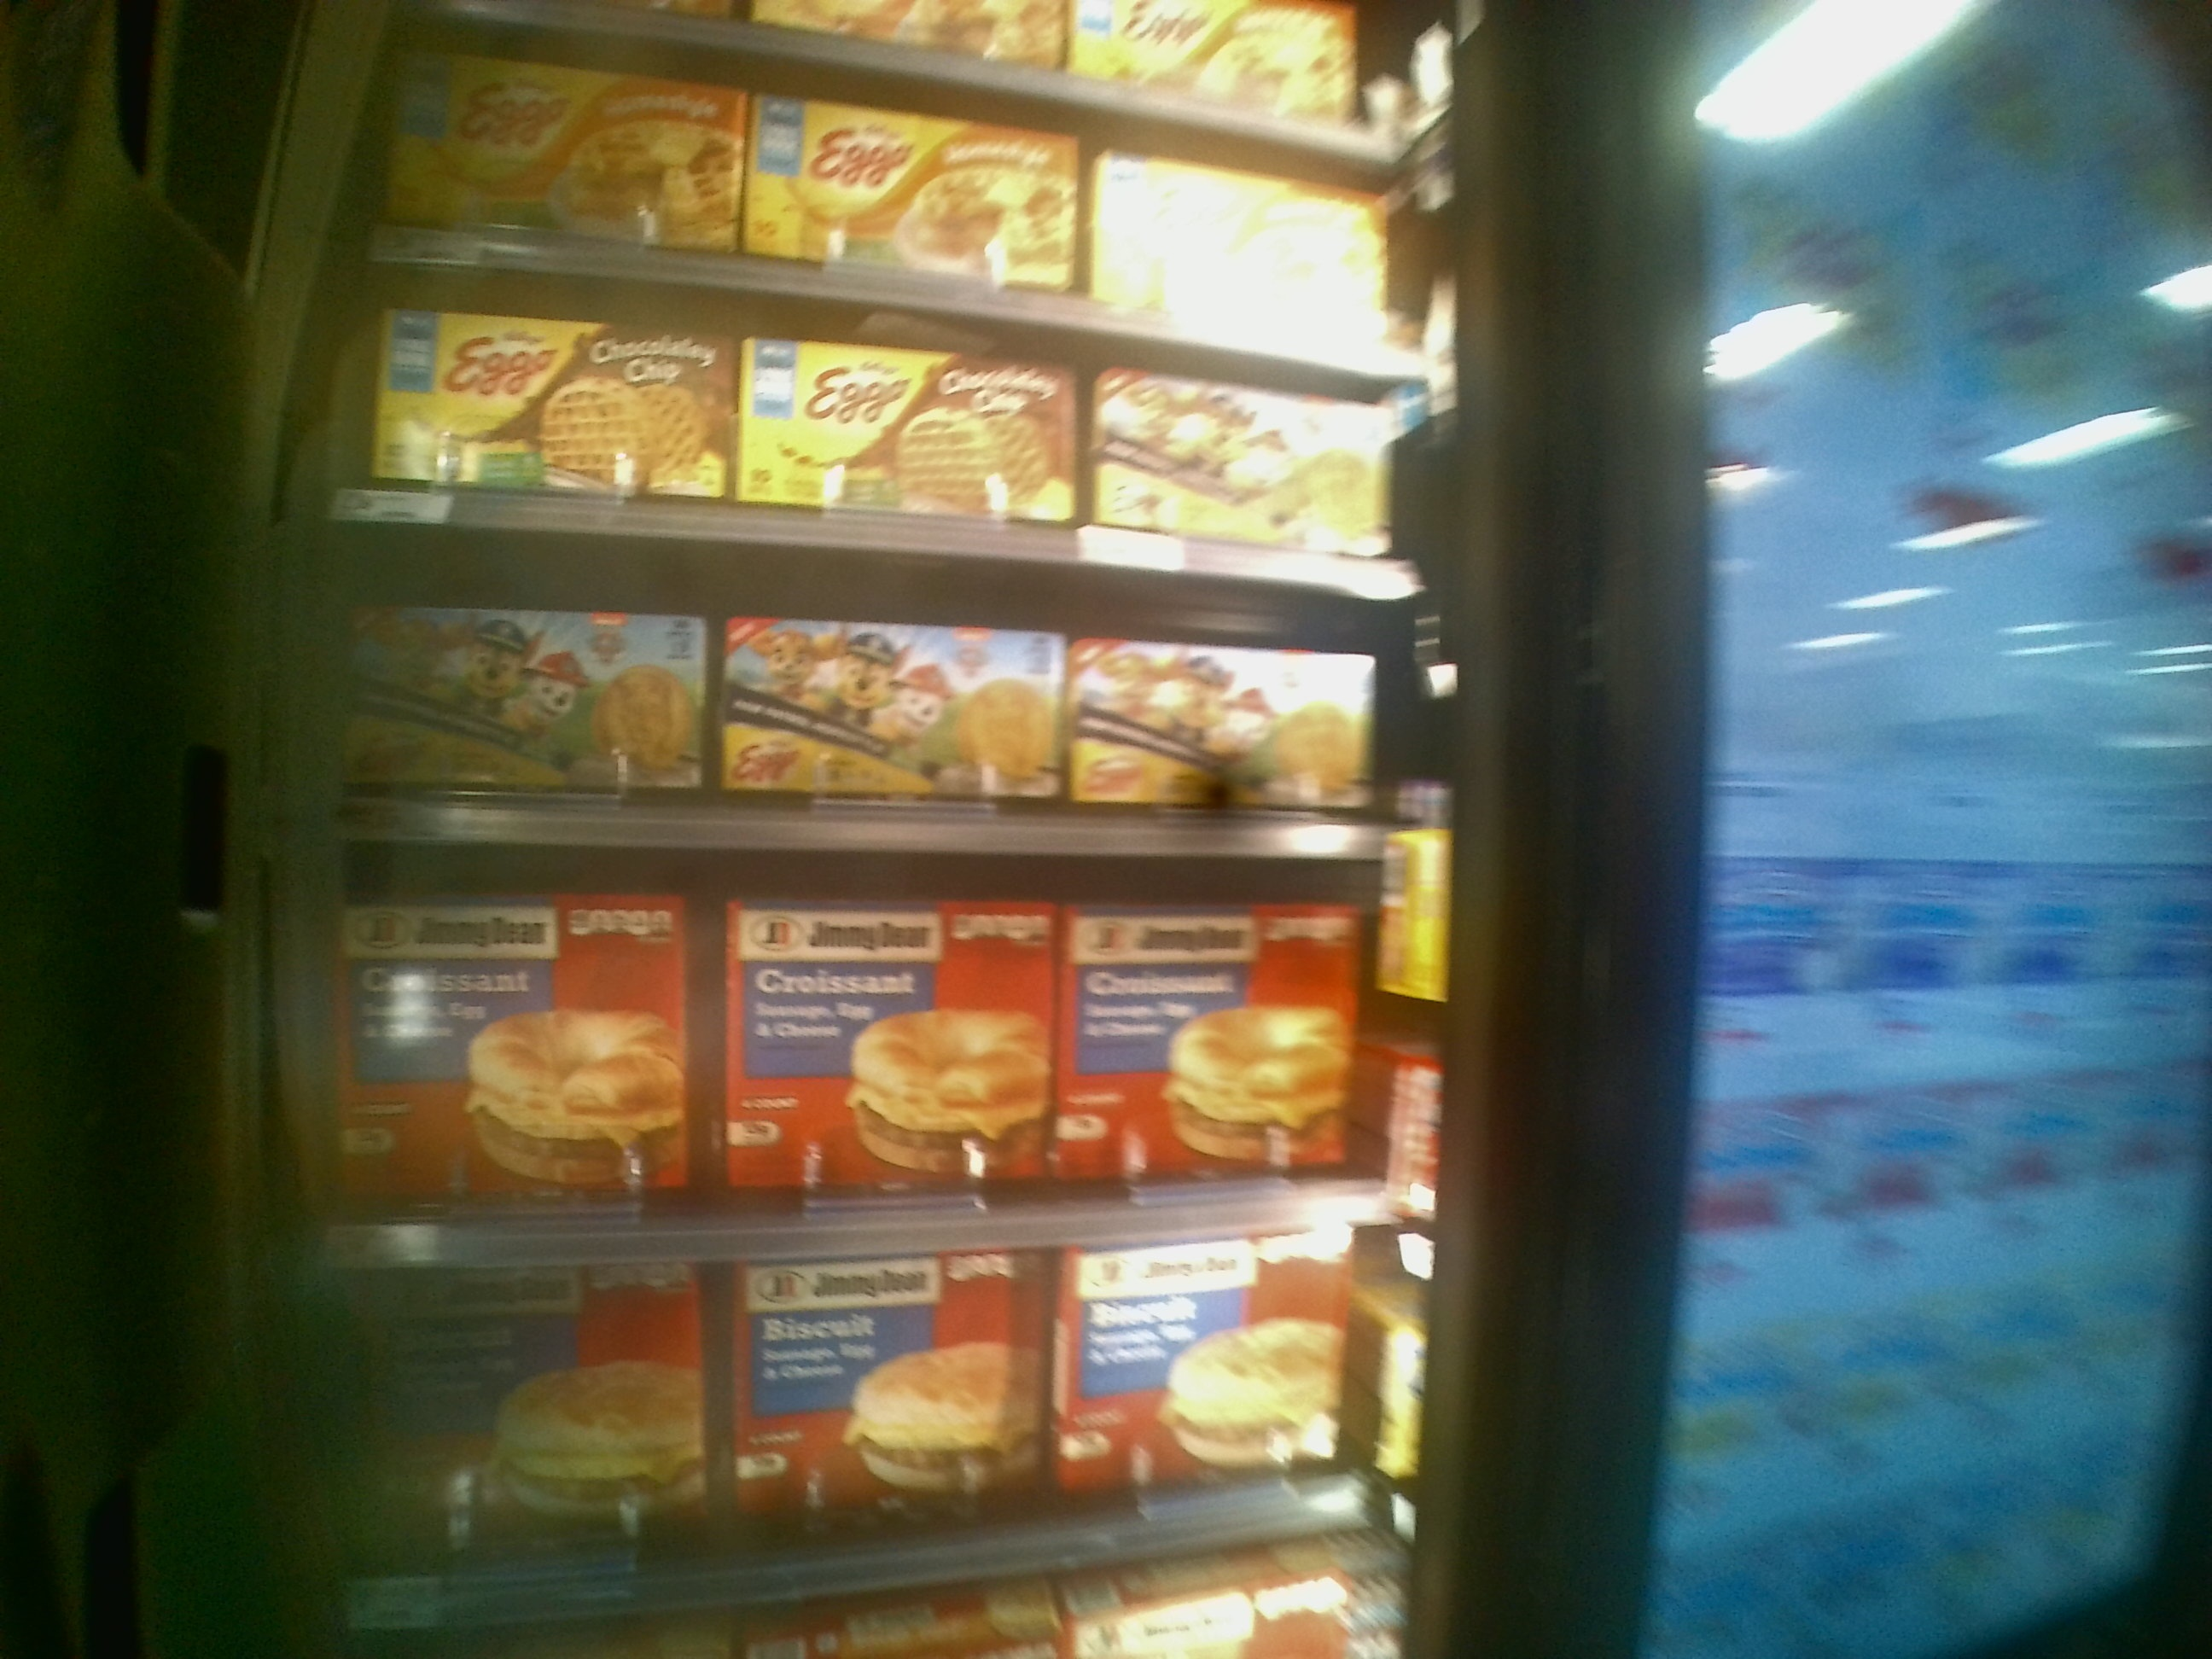shelf: (329, 849, 1453, 1269), (331, 1230, 1430, 1650), (334, 523, 1420, 857), (361, 251, 1418, 592)
